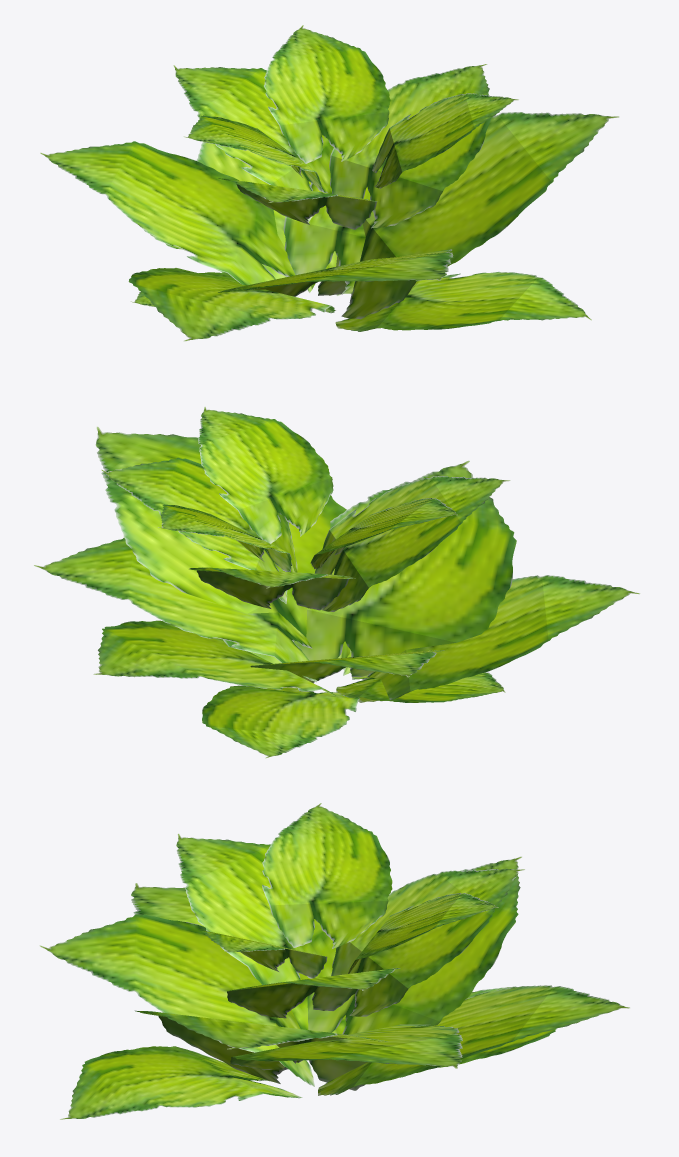
File: Planter_003.fbx
3 views of the same model, one above another, from view 1: azimuth 30°, elevation 25°; view 2: azimuth 150°, elevation 25°; view 3: azimuth 270°, elevation 25° (orthographic). The views are drawn at different scales.
Parts seen in each view (by area): view 1: Planters_003; view 2: Planters_003; view 3: Planters_003.
Part boxes in pixels (x1,y1,x2,y2): Planters_003: (40,25,619,341); Planters_003: (34,406,640,758); Planters_003: (39,803,629,1119).
Bounding box in the file's own units: 86.34 × 33.9 × 84.55.
